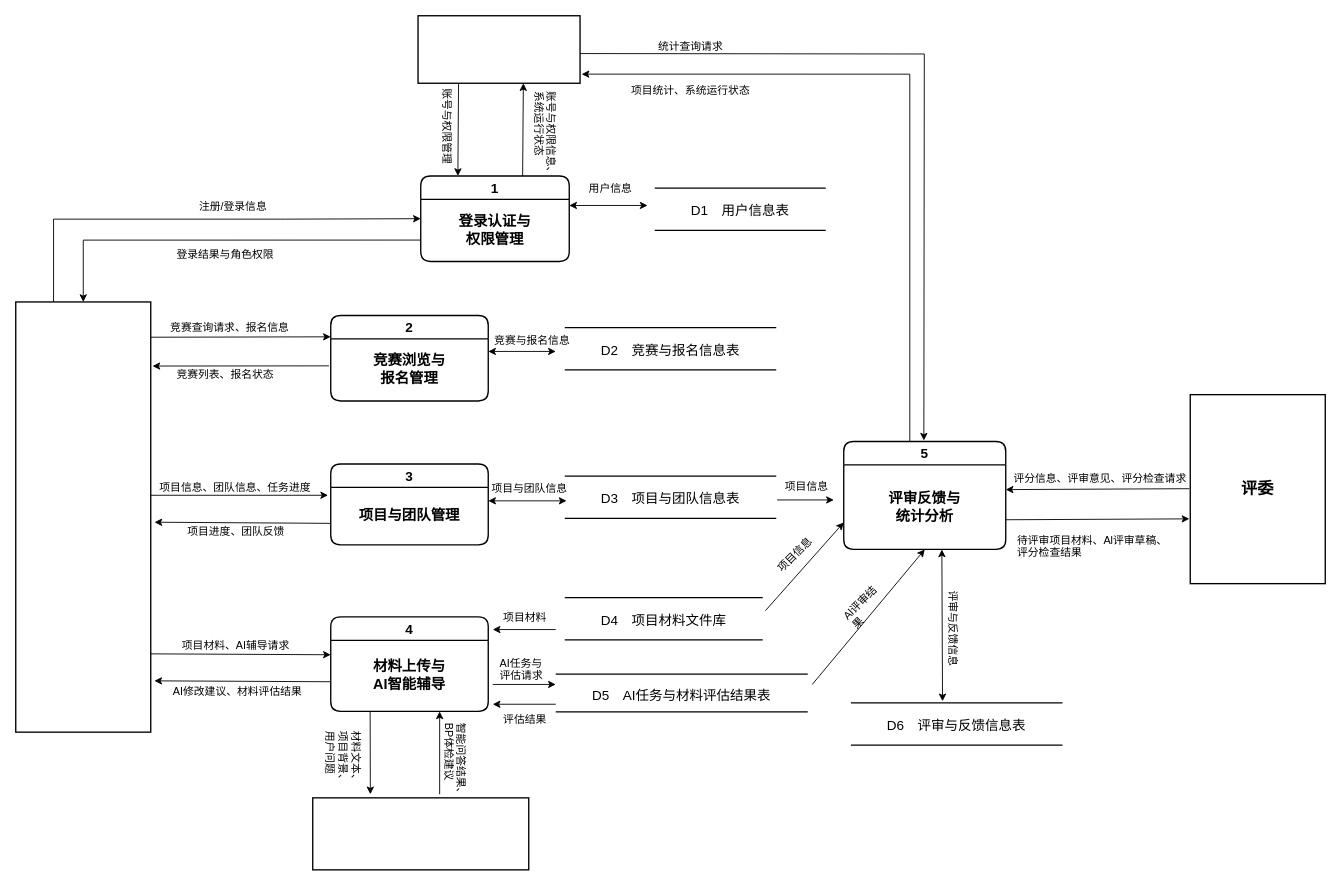
This 1342x887 diagram has some shape labels left out. Here are the shapes that lost their labels. From the top down, the box of each, then its label:
(417, 15, 580, 84): 管理员
(15, 301, 151, 732): 学生
(312, 797, 529, 870): AI大模型服务
